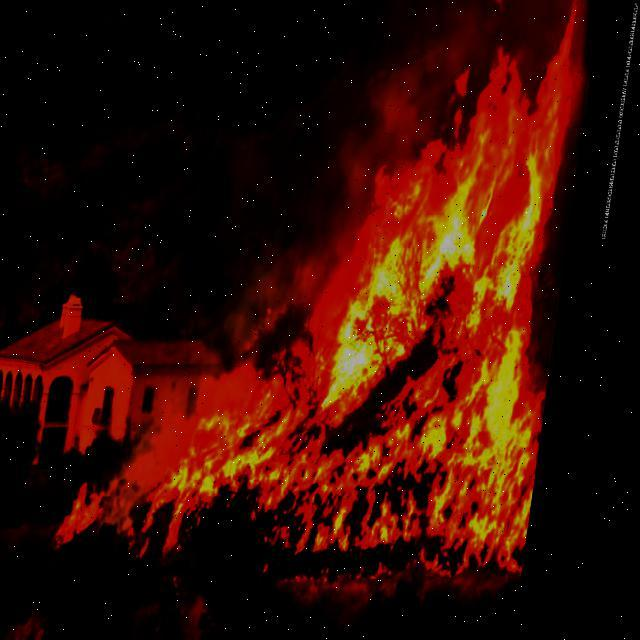Fire: (209, 14, 602, 574)
